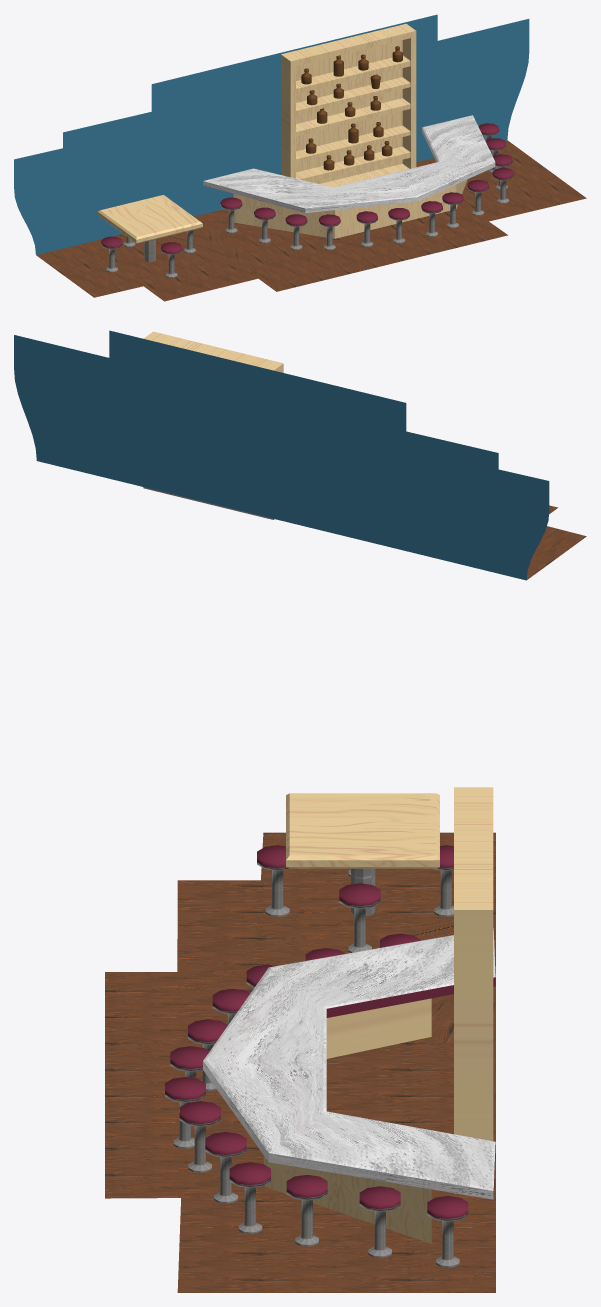
The model's file is pub interior3.fbx.
3 views of the same model, one above another, from view 1: azimuth 30°, elevation 25°; view 2: azimuth 150°, elevation 25°; view 3: azimuth 270°, elevation 25° (orthographic). The views are drawn at different scales.
Parts seen in each view (by area): view 1: pCylinder34; view 2: pCylinder34; view 3: pCylinder34.
Part boxes in pixels (box(x1,y1,x2,y2)): pCylinder34: box(14, 14, 586, 301); pCylinder34: box(14, 330, 586, 580); pCylinder34: box(105, 787, 495, 1292).
Size of the model in its own units: 18.26 by 4.94 by 6.
8 materials, 4 textured.
